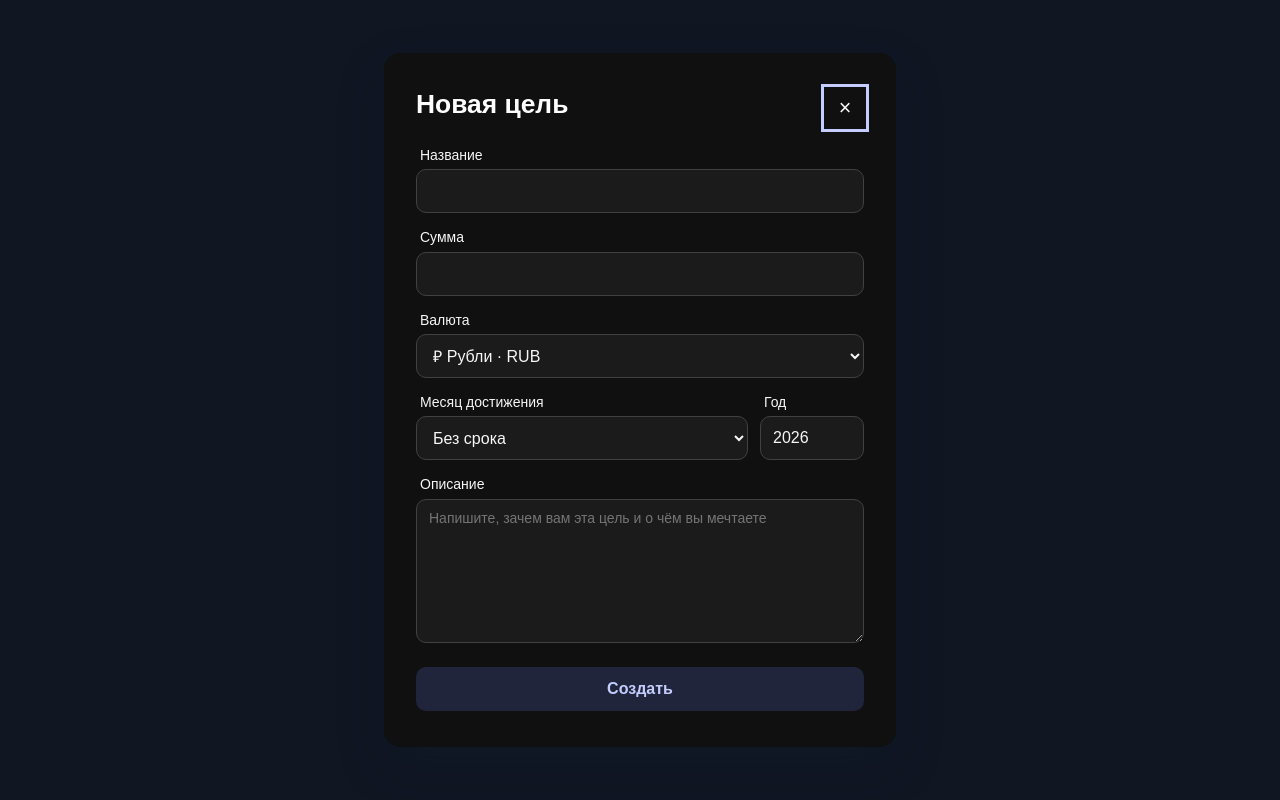
Test: CreateGoalDialog › keeps the dialog open when Отпуск and 0 are invalid
Type "Отпуск" into the field labelled "Название".
click(640, 191); type("Отпуск")  # box [416, 169, 864, 213]
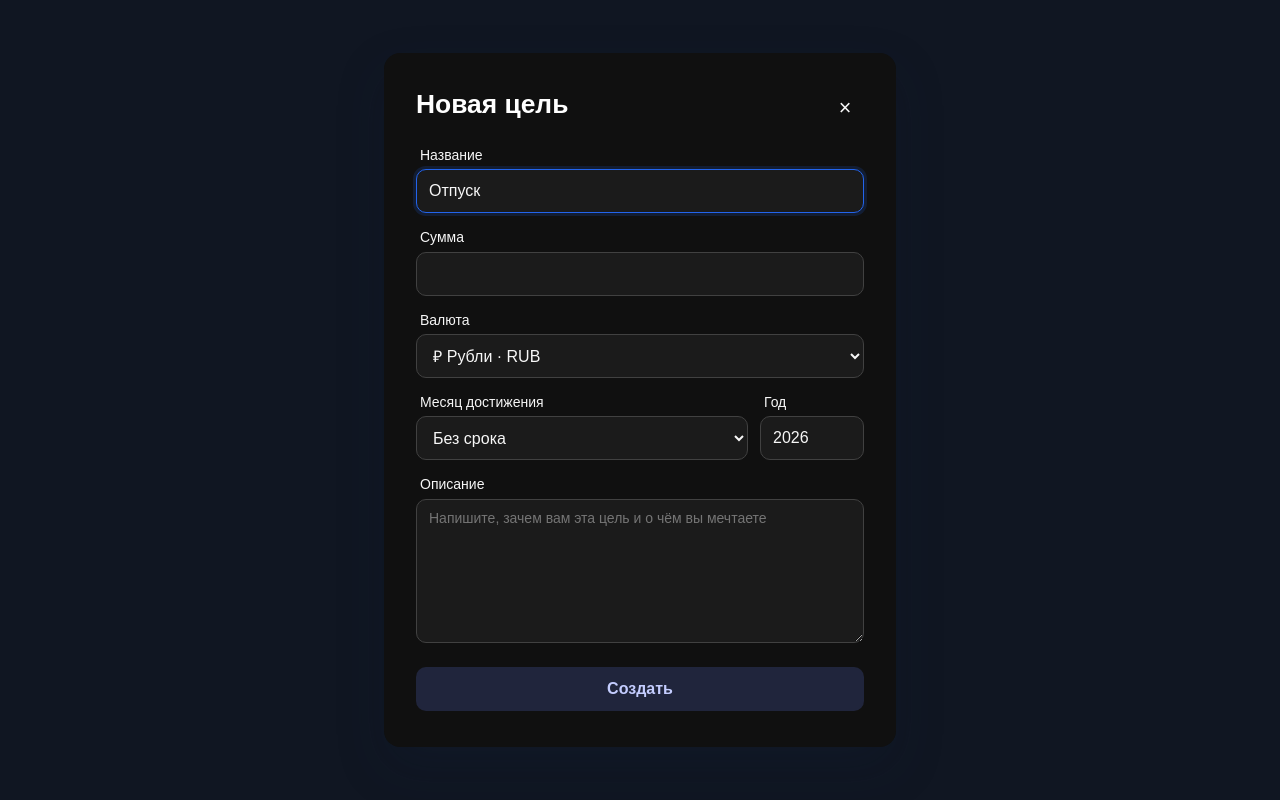
Type "0" into the field labelled "Сумма".
click(640, 274); type("0")  # box [416, 252, 864, 296]
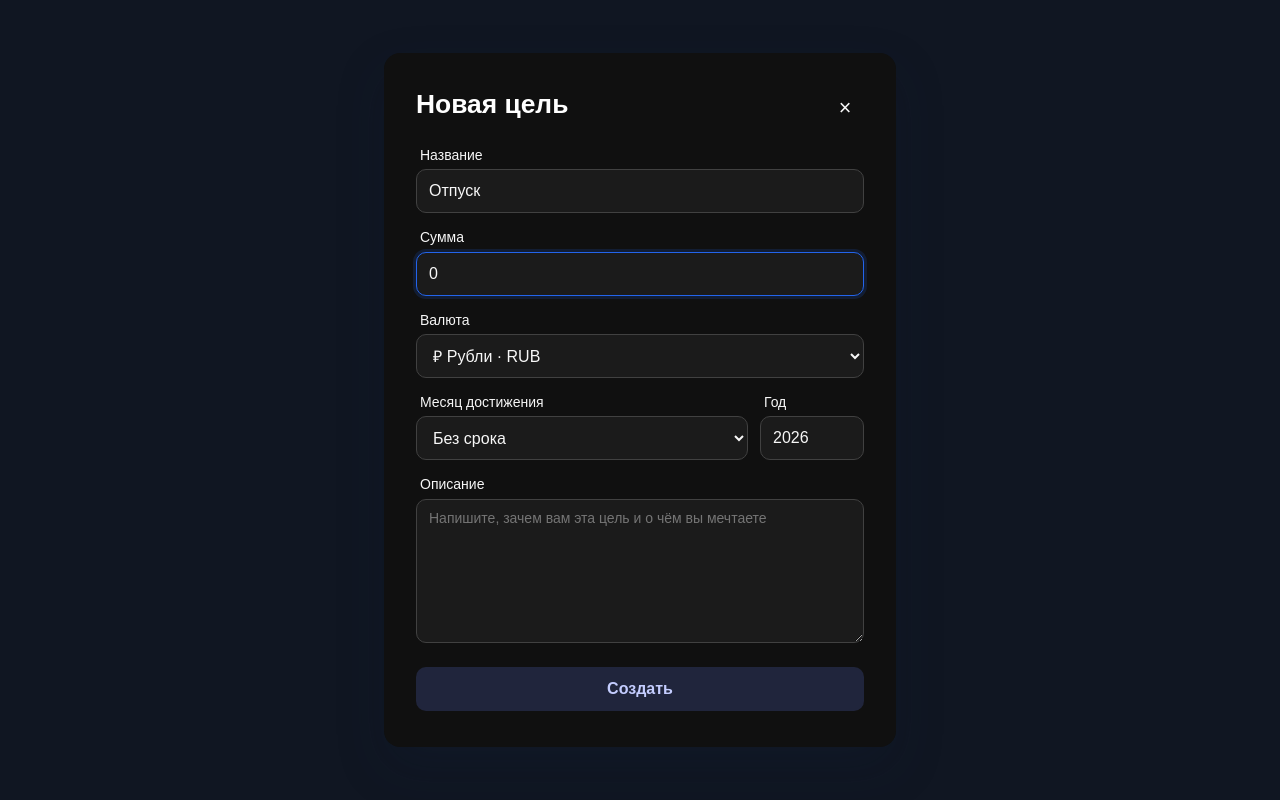
Click the button "Создать".
click(640, 689)  # box [416, 667, 864, 711]
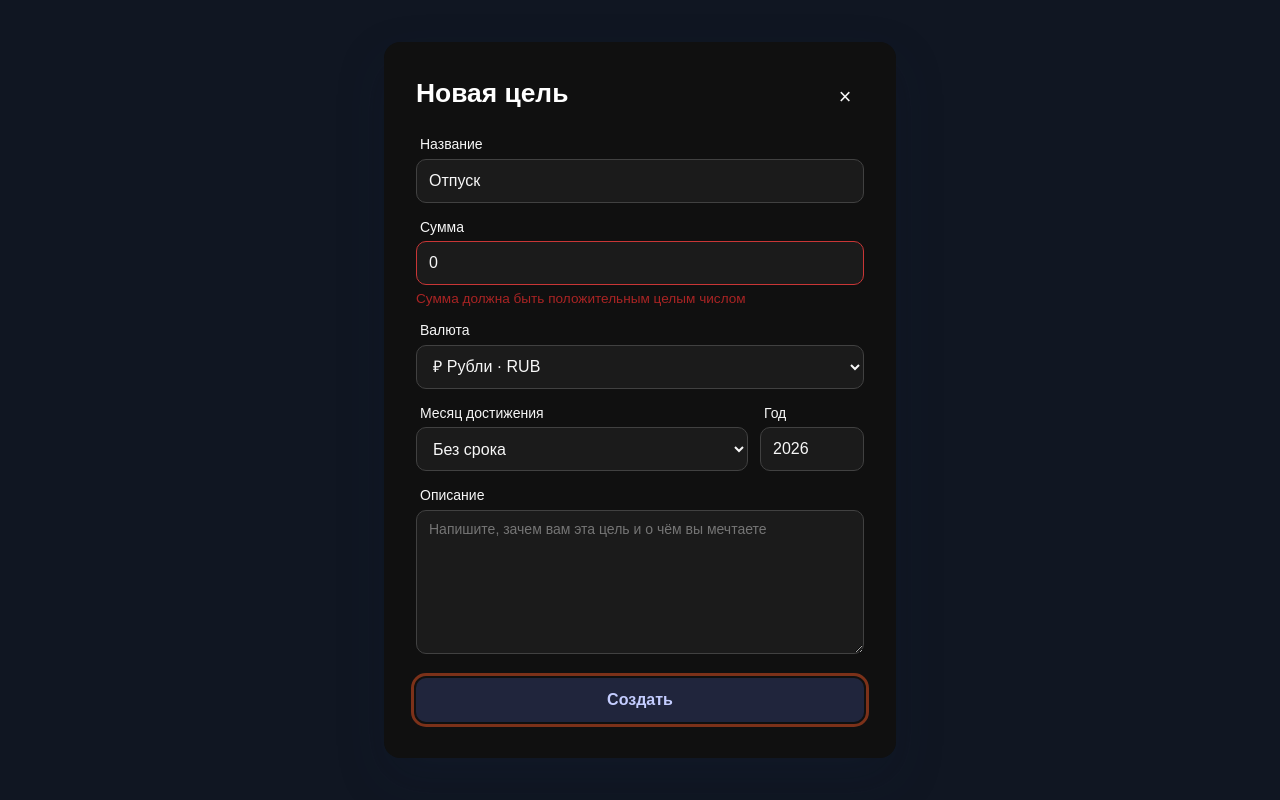
Check: the message reads "Сумма должна быть положительным целым числом", box [416, 291, 746, 306]
